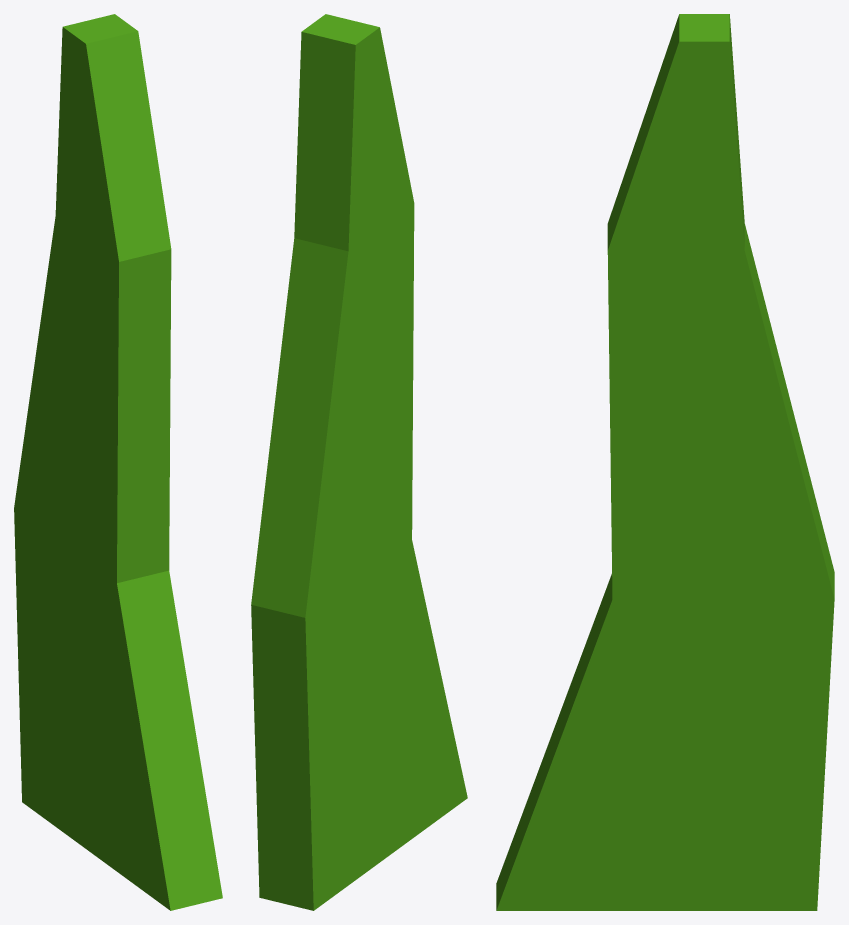
The model's file is GrassSingle_c_02.fbx.
The picture shows the model from 3 angles, left to right: view 1: azimuth 30°, elevation 25°; view 2: azimuth 150°, elevation 25°; view 3: azimuth 270°, elevation 25°; orthographic projection. The views are drawn at different scales.
Visible parts, largest first — view 1: GrassSingle_c_02; view 2: GrassSingle_c_02; view 3: GrassSingle_c_02.
Boxes of the visible parts, box(x1,y1,x2,y2) form: GrassSingle_c_02: box(14, 14, 222, 910); GrassSingle_c_02: box(251, 14, 467, 910); GrassSingle_c_02: box(496, 14, 834, 910).
Size of the model in its own units: 0.4098 by 6.03 by 2.13.
